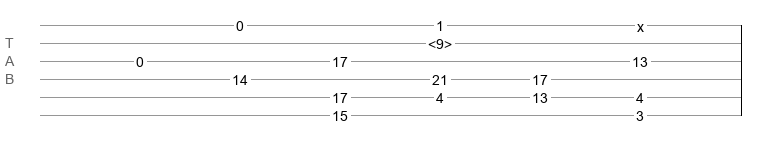0: (136, 54, 144, 64), (236, 18, 244, 28)
1: (436, 18, 444, 28)
13: (532, 90, 548, 100), (632, 54, 648, 64)
14: (232, 72, 248, 82)
15: (332, 108, 348, 118)
17: (332, 54, 348, 64), (332, 90, 348, 100), (532, 72, 548, 82)
21: (432, 72, 448, 82)
3: (636, 108, 644, 118)
4: (436, 90, 444, 100), (636, 90, 644, 100)
harmonic: (428, 36, 452, 46)
x: (637, 19, 644, 27)
